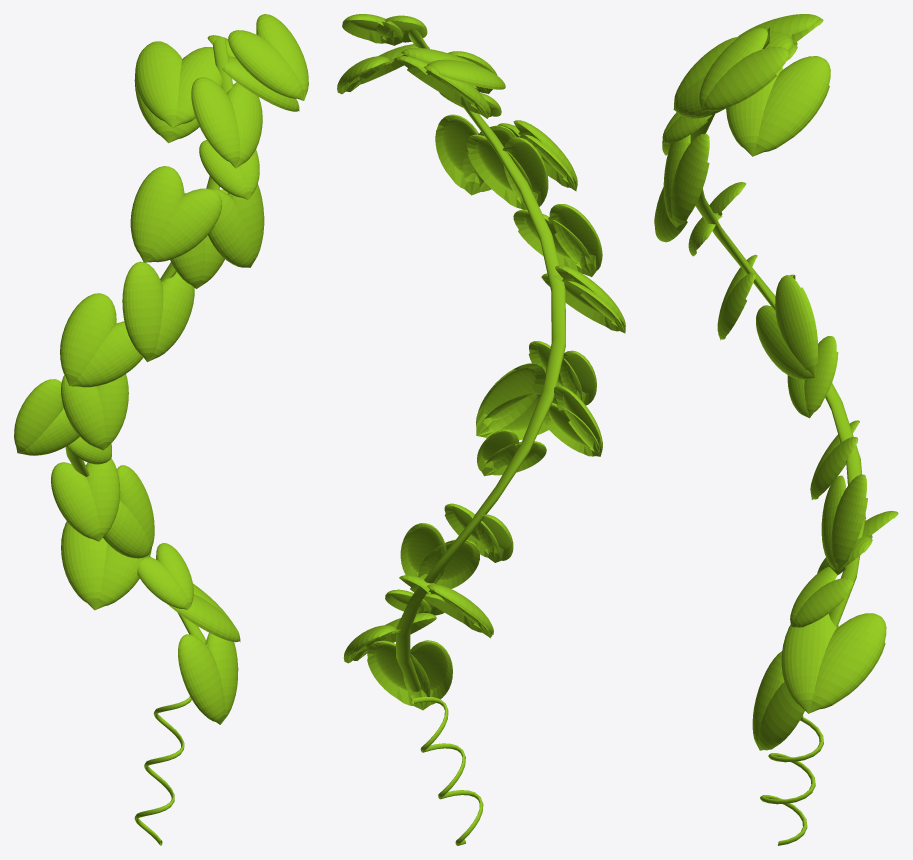
Rendered from planta.fbx.
3 views of the same model, side by side, from view 1: azimuth 30°, elevation 25°; view 2: azimuth 150°, elevation 25°; view 3: azimuth 270°, elevation 25° (orthographic). The views are drawn at different scales.
Parts seen in each view (by area): view 1: Esfera.006, Esfera.010, Esfera.009, Esfera, Esfera.004, Esfera.001, Esfera.017, Esfera.015, Esfera.020, Esfera.011, Esfera.014, Esfera.007 (+10 smaller); view 2: Círculo, Esfera.020, Esfera.013, Esfera.008, Esfera.009, Esfera.016, Esfera.007, Esfera.014, Esfera.010, Esfera.015, Esfera.011, Esfera.017 (+9 smaller); view 3: Esfera.019, Esfera.002, Esfera.013, Esfera.001, Círculo, Esfera.016, Esfera.007, Esfera.020, Esfera.018, Esfera.012, Esfera.004, Esfera.015 (+7 smaller).
Part boxes in pixels (box(x1,y1,x2,y2)): Esfera.006: box(130, 166, 222, 262); Esfera.010: box(60, 293, 143, 387); Esfera.009: box(122, 261, 194, 361); Esfera: box(135, 42, 222, 127); Esfera.004: box(191, 77, 262, 168); Esfera.001: box(228, 14, 308, 100); Esfera.017: box(61, 521, 151, 610); Esfera.015: box(51, 458, 120, 541); Esfera.020: box(178, 632, 238, 724); Esfera.011: box(61, 374, 128, 450); Esfera.014: box(14, 379, 79, 455); Esfera.007: box(208, 184, 264, 267); Círculo: box(396, 29, 565, 691); Esfera.020: box(367, 640, 452, 710); Esfera.013: box(476, 363, 557, 440); Esfera.008: box(466, 134, 548, 209); Esfera.009: box(513, 204, 602, 276); Esfera.016: box(400, 523, 479, 588); Esfera.007: box(435, 114, 515, 195); Esfera.014: box(544, 386, 602, 456); Esfera.010: box(541, 265, 625, 333); Esfera.015: box(444, 503, 513, 562); Esfera.011: box(528, 341, 596, 405); Esfera.017: box(399, 575, 493, 638); Esfera.019: box(781, 613, 886, 713); Esfera.002: box(726, 56, 830, 156); Esfera.013: box(756, 275, 818, 379); Esfera.001: box(699, 28, 789, 111); Círculo: box(690, 27, 865, 627); Esfera.016: box(821, 474, 867, 569); Esfera.007: box(663, 133, 709, 227); Esfera.020: box(752, 651, 804, 750); Esfera.018: box(790, 566, 853, 627); Esfera.012: box(787, 336, 838, 418); Esfera.004: box(673, 36, 738, 118); Esfera.015: box(810, 420, 859, 499).
Size of the model in its own units: 1090 by 3108 by 807.
